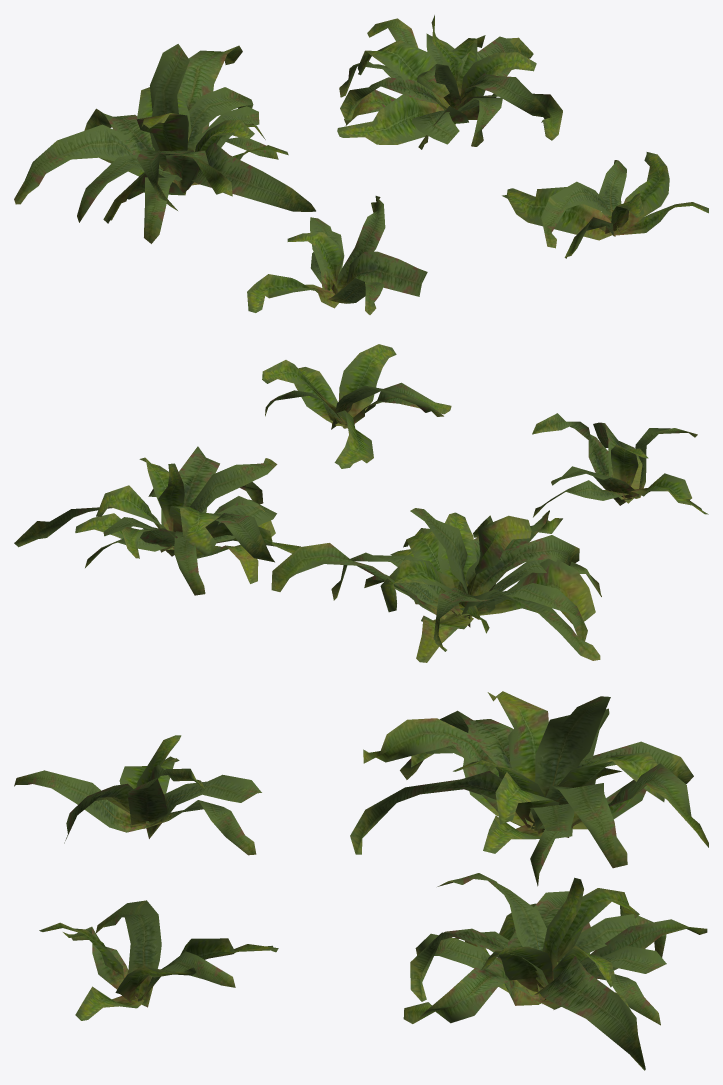
Rendered from fern_02.glb.
3 renders of one model, top to bottom at view 1: azimuth 30°, elevation 25°; view 2: azimuth 150°, elevation 25°; view 3: azimuth 270°, elevation 25°, orthographic. The views are drawn at different scales.
Parts seen in each view (by area): view 1: fern_02_b, fern_02_c, fern_02_d, fern_02_a; view 2: fern_02_b, fern_02_c, fern_02_d, fern_02_a; view 3: fern_02_b, fern_02_c, fern_02_a, fern_02_d.
Boxes of the visible parts, x1,y1,x2,y2 form: fern_02_b: (14, 44, 315, 243); fern_02_c: (337, 15, 562, 149); fern_02_d: (502, 152, 708, 258); fern_02_a: (247, 196, 427, 314); fern_02_b: (271, 508, 601, 662); fern_02_c: (14, 446, 300, 595); fern_02_d: (262, 344, 451, 468); fern_02_a: (532, 413, 708, 517); fern_02_b: (350, 691, 708, 886); fern_02_c: (403, 873, 707, 1070); fern_02_a: (14, 735, 261, 855); fern_02_d: (39, 900, 278, 1020).
Size of the model in its own units: 1.97 by 0.4277 by 1.72.
1 material, 1 textured.
